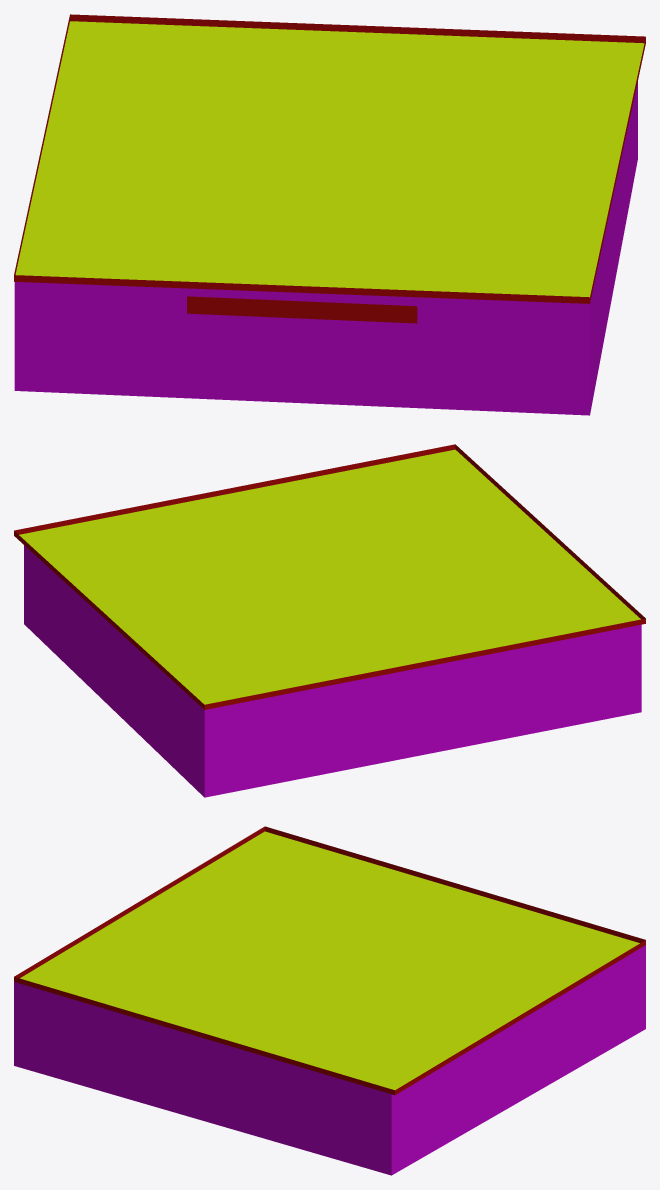
Rendered from bgj_183.glb.
3 renders of one model, top to bottom at view 1: azimuth 30°, elevation 25°; view 2: azimuth 150°, elevation 25°; view 3: azimuth 270°, elevation 25°, orthographic. The views are drawn at different scales.
Visible parts, largest first — view 1: bgj_183; view 2: bgj_183; view 3: bgj_183.
Boxes of the visible parts, left/top/right/bottom form: bgj_183: left=14, top=14, right=645, bottom=415; bgj_183: left=14, top=444, right=645, bottom=797; bgj_183: left=14, top=826, right=645, bottom=1175.
Bounding box in the file's own units: 39.14 × 6.16 × 39.6.
